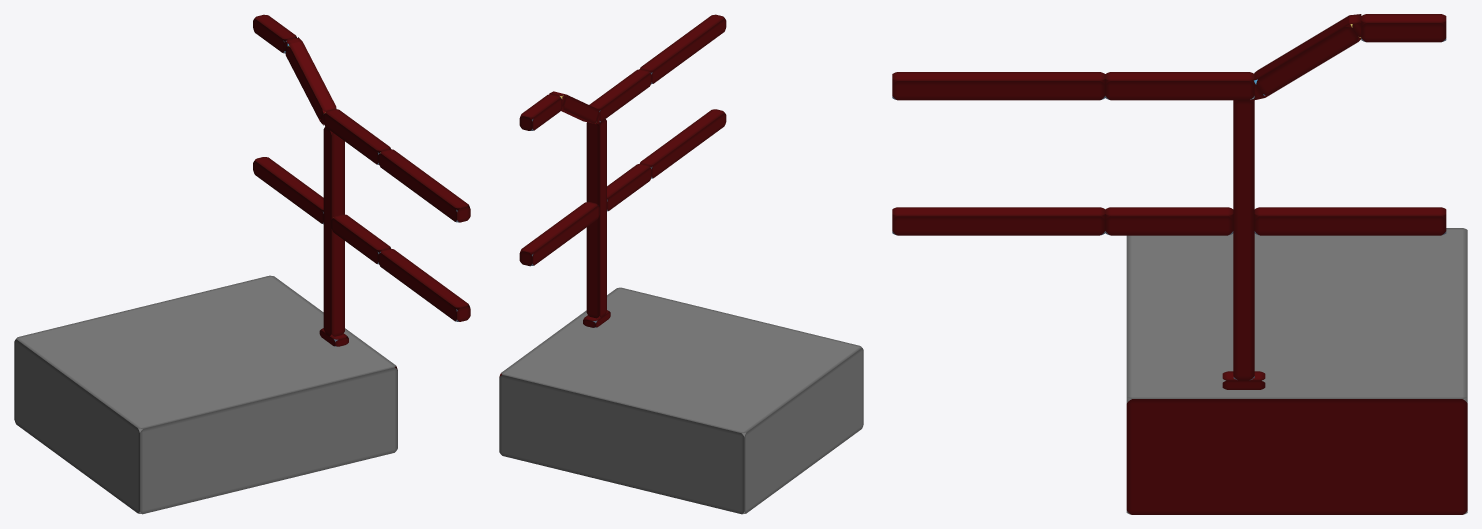
The model's file is df7g_floor_d.obj.
3 renders of one model, left to right at view 1: azimuth 30°, elevation 25°; view 2: azimuth 150°, elevation 25°; view 3: azimuth 270°, elevation 25°, orthographic. The views are drawn at different scales.
Visible parts, largest first — view 1: df7g_floor_d; view 2: df7g_floor_d; view 3: df7g_floor_d.
Part boxes in pixels (bbox=[...]): df7g_floor_d: bbox=[14, 14, 470, 514]; df7g_floor_d: bbox=[499, 14, 863, 514]; df7g_floor_d: bbox=[892, 14, 1467, 514].
Bounding box in the file's own units: 1.19 × 1.56 × 1.69.
